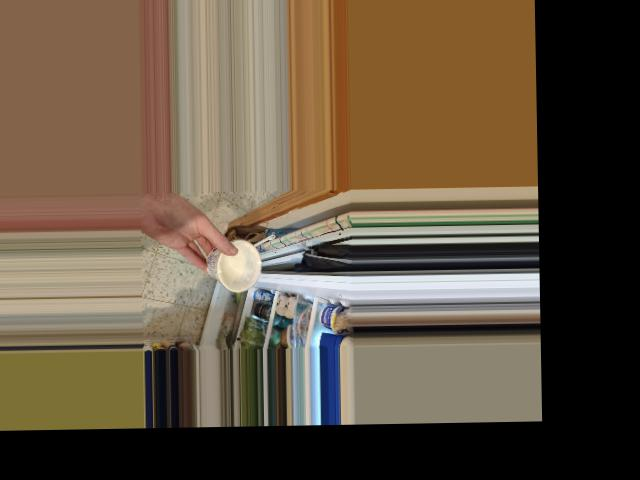cotage: (202, 235, 261, 283)
